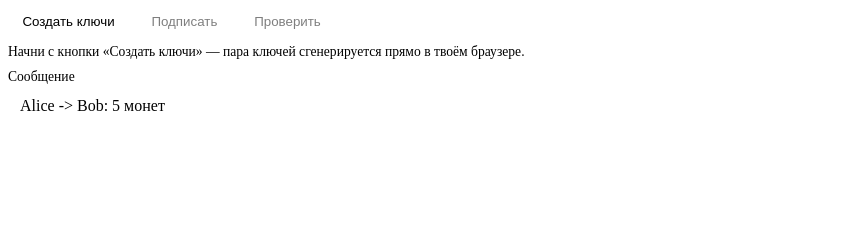
Test: подписать → проверить: зелёная галочка, подпись верна
Click the button "Создать ключи" at (68, 21), box x1=8 y1=8 x2=129 y2=34
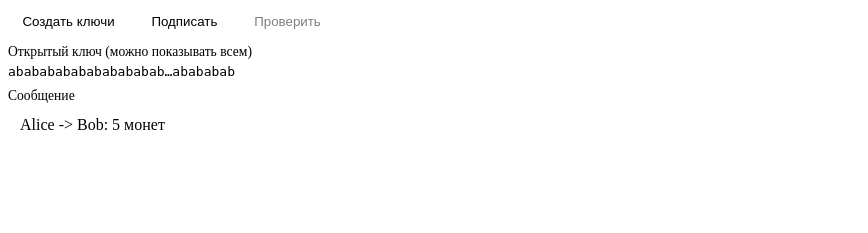
Result: the text "Открытый ключ (можно показывать всем)" is shown at x1=8 y1=44 x2=252 y2=59
Click the button "Подписать" at (184, 21), box x1=137 y1=8 x2=232 y2=34
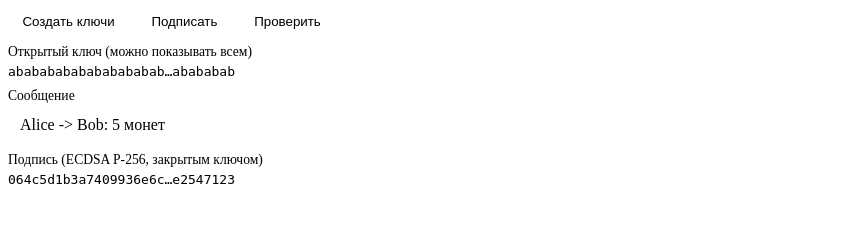
Result: the text "Подпись (ECDSA P-256, закрытым ключом)" is shown at x1=8 y1=152 x2=263 y2=167
Click the button "Проверить" at (288, 21), box x1=240 y1=8 x2=335 y2=34
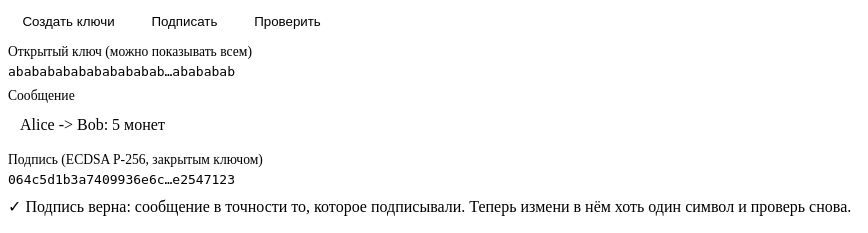
Result: the text "✓ Подпись верна" is shown at x1=8 y1=198 x2=851 y2=215
